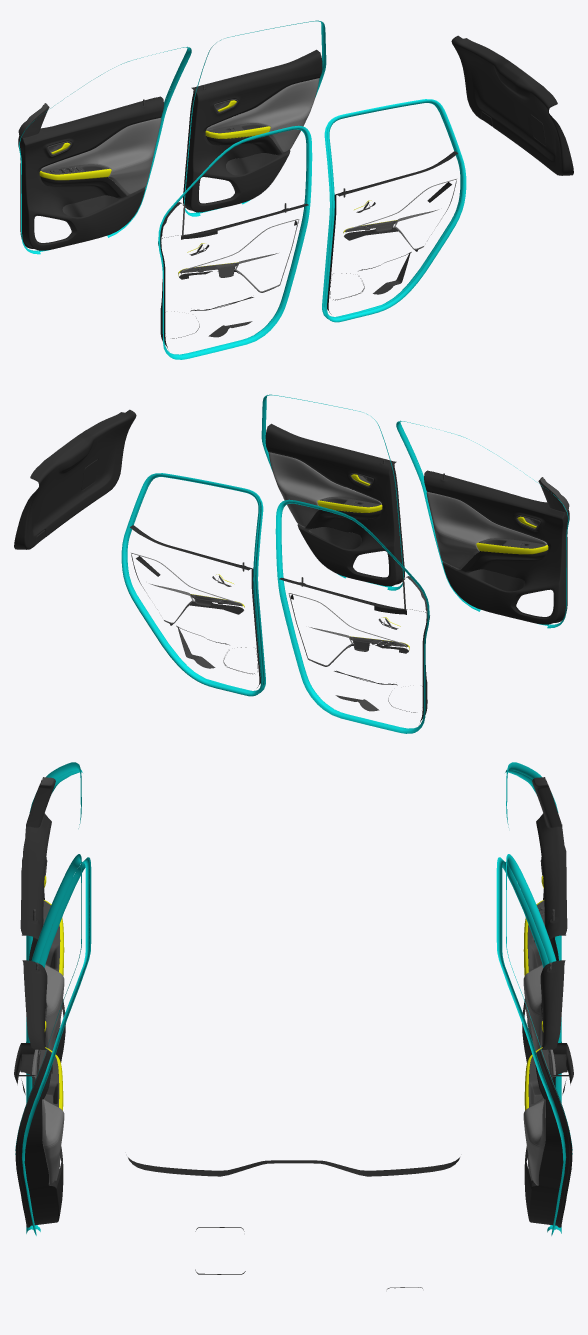
Rendered from MAGNITE_TURBO_CVT_XV_PRE_IN_DOORS_MESH.glb.
3 views of the same model, one above another, from view 1: azimuth 30°, elevation 25°; view 2: azimuth 150°, elevation 25°; view 3: azimuth 270°, elevation 25° (orthographic). The views are drawn at different scales.
Visible parts, largest first — view 1: MAGNITE_TURBO_CVT_XV_PRE_IN_DOORS_MESH; view 2: MAGNITE_TURBO_CVT_XV_PRE_IN_DOORS_MESH; view 3: MAGNITE_TURBO_CVT_XV_PRE_IN_DOORS_MESH.
Part boxes in pixels (x1,y1,x2,y2): MAGNITE_TURBO_CVT_XV_PRE_IN_DOORS_MESH: (18,20,573,359); MAGNITE_TURBO_CVT_XV_PRE_IN_DOORS_MESH: (14,394,569,733); MAGNITE_TURBO_CVT_XV_PRE_IN_DOORS_MESH: (14,762,573,1289).
Bounding box in the file's own units: 2.55 × 1.06 × 1.52.
